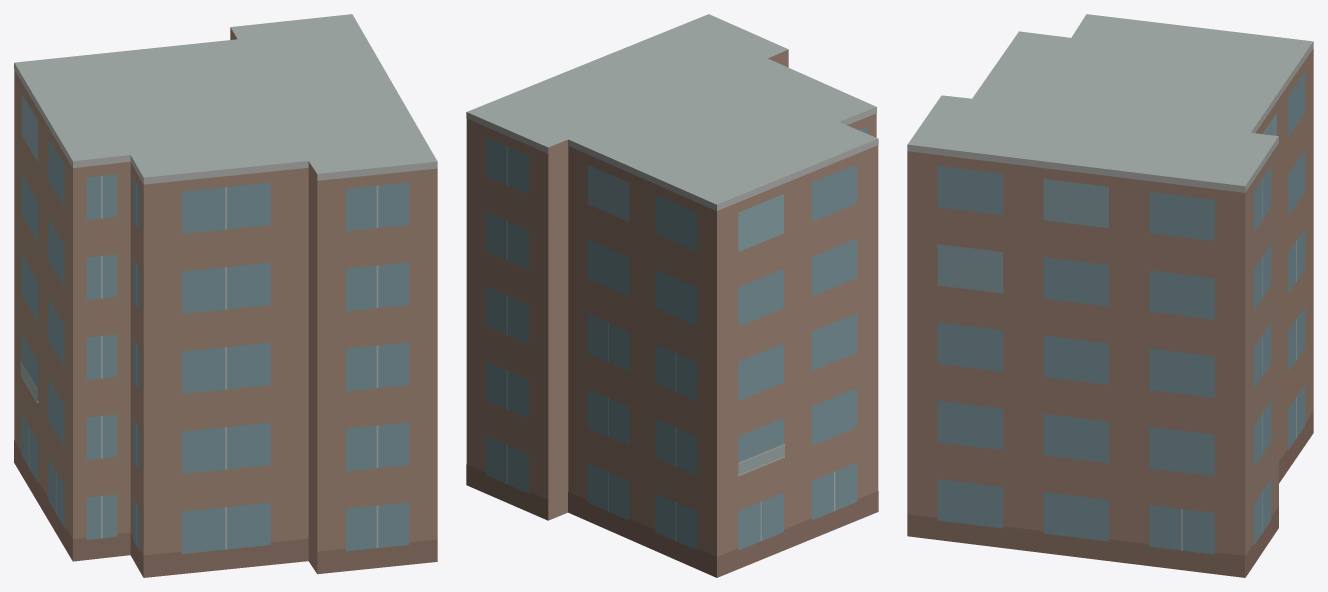
File: survey-upis-32880263.glb
3 renders of one model, left to right at view 1: azimuth 30°, elevation 25°; view 2: azimuth 150°, elevation 25°; view 3: azimuth 270°, elevation 25°, orthographic. The views are drawn at different scales.
Parts seen in each view (by area): view 1: survey-upis-32880263.tmp; view 2: survey-upis-32880263.tmp; view 3: survey-upis-32880263.tmp.
Boxes of the visible parts, left/top/right/bottom form: survey-upis-32880263.tmp: left=14, top=14, right=437, bottom=577; survey-upis-32880263.tmp: left=466, top=14, right=878, bottom=577; survey-upis-32880263.tmp: left=907, top=14, right=1313, bottom=577.
Size of the model in its own units: 13.5 by 14.3 by 13.45.
